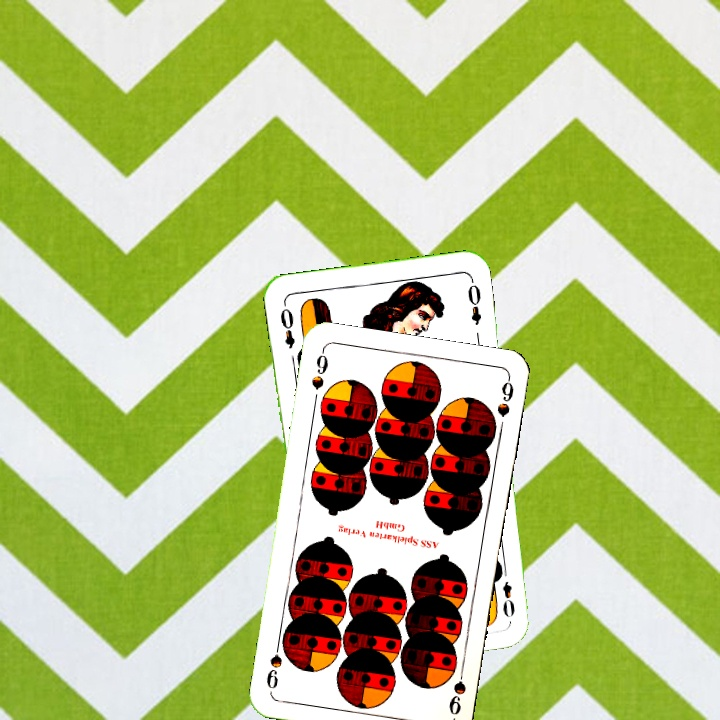EO: (495, 562, 518, 621), (276, 299, 297, 351)
S9: (445, 661, 468, 718), (307, 346, 331, 392)
